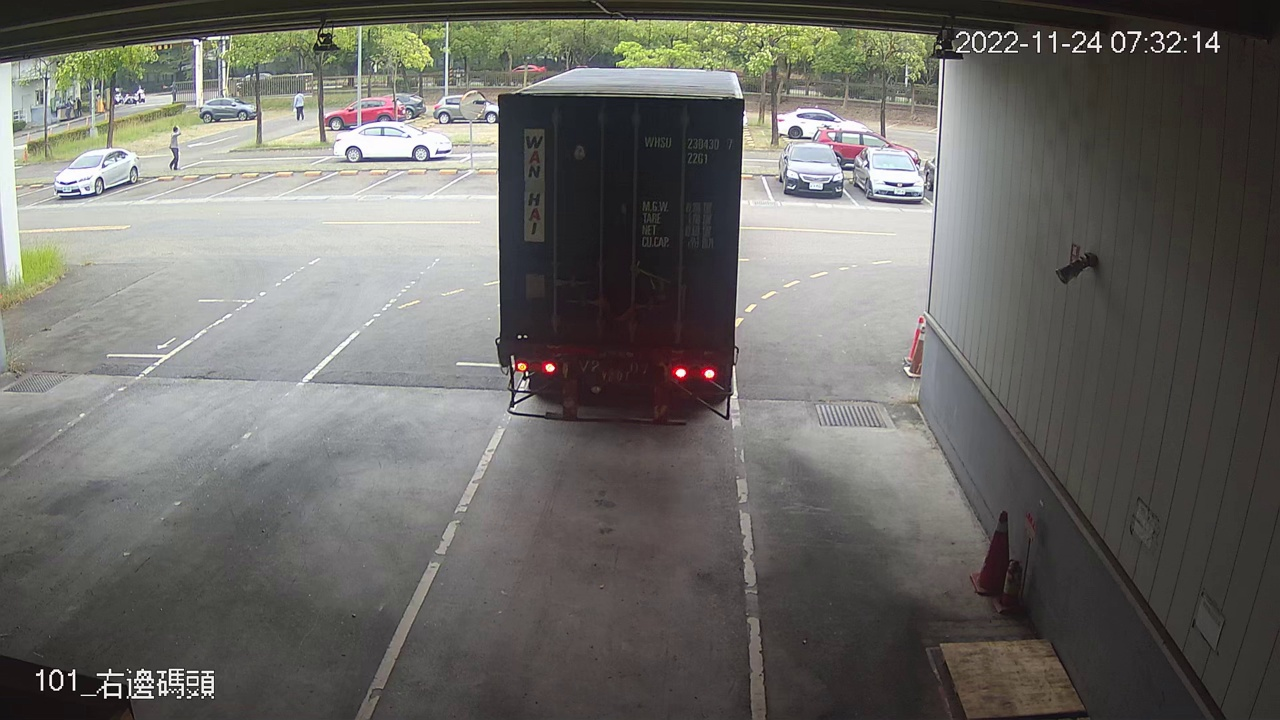container: (639, 129, 738, 170)
